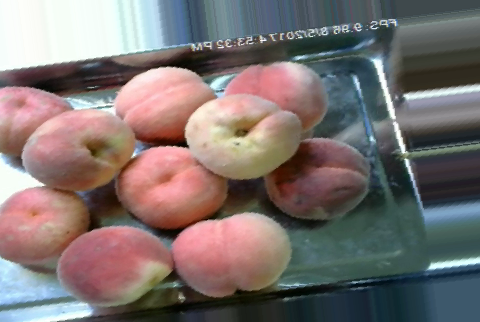Peach: (185, 89, 302, 181), (16, 106, 134, 194), (112, 145, 228, 232), (172, 213, 290, 296), (55, 225, 173, 307), (264, 136, 369, 221), (113, 67, 214, 144), (0, 185, 89, 267), (222, 61, 323, 132), (1, 87, 67, 158)
